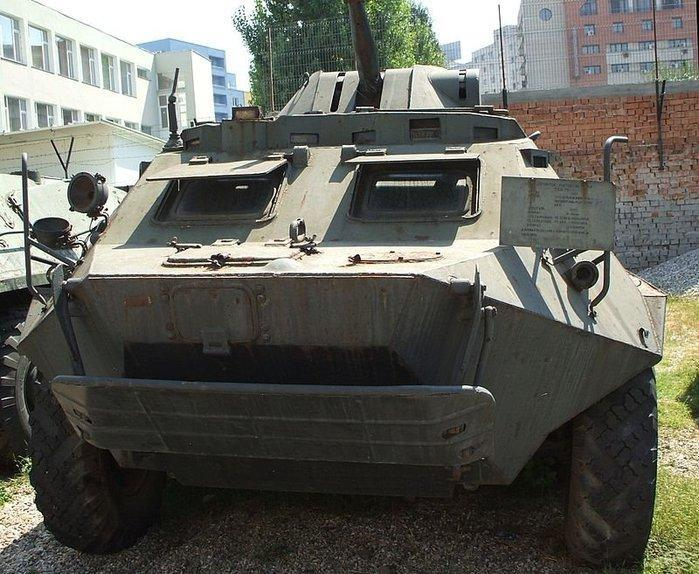MIL_IFV: (24, 57, 667, 565)
